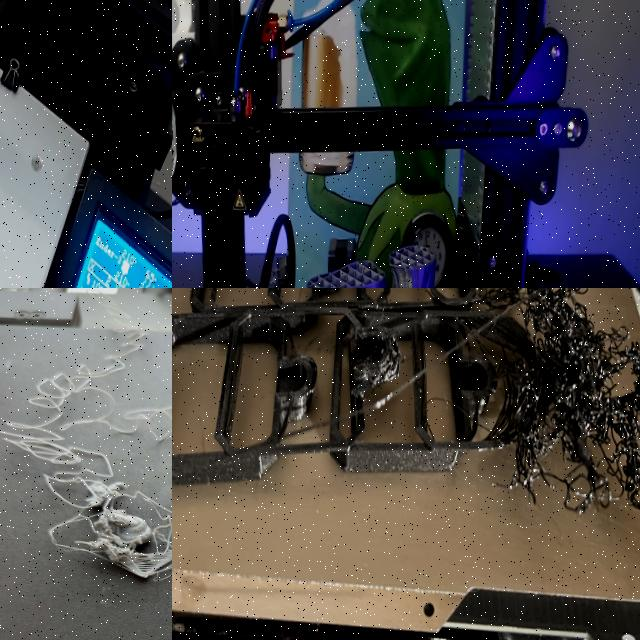spaghetti: (446, 288, 640, 575), (0, 288, 172, 596)
